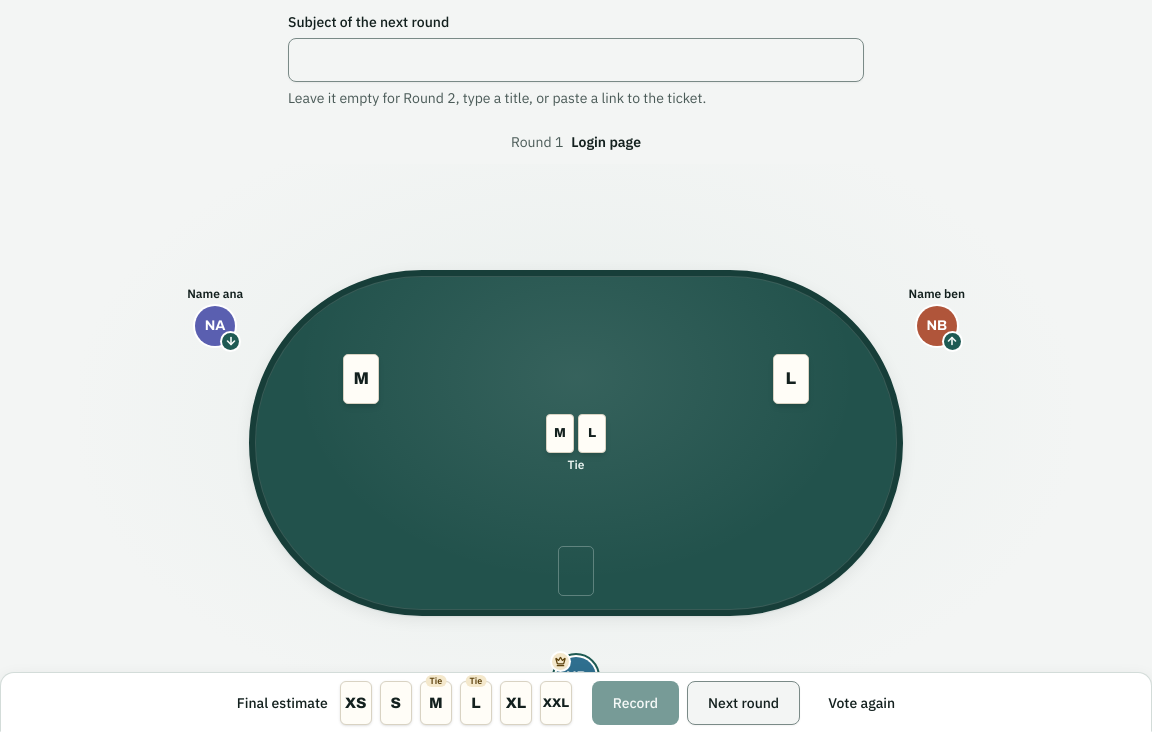
the final estimate after a change (#29) › preselects nothing when the change makes a tie, and says why under the bar
This screenshot has width=1152, height=732.
# M and L tie: the PO picks L and records it.
Click the radio button with aria-label "L, tied": (476, 703) x1=460 y1=681 x2=492 y2=725
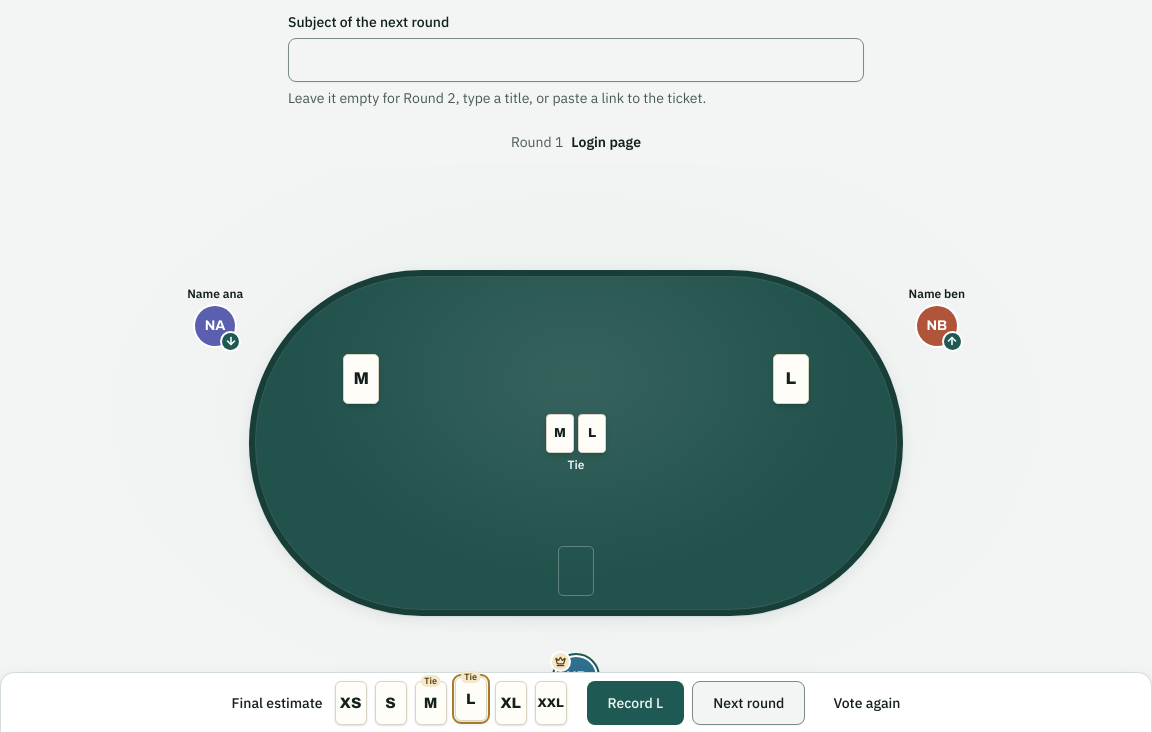
Click the button "Record L": (635, 703) x1=587 y1=681 x2=684 y2=725
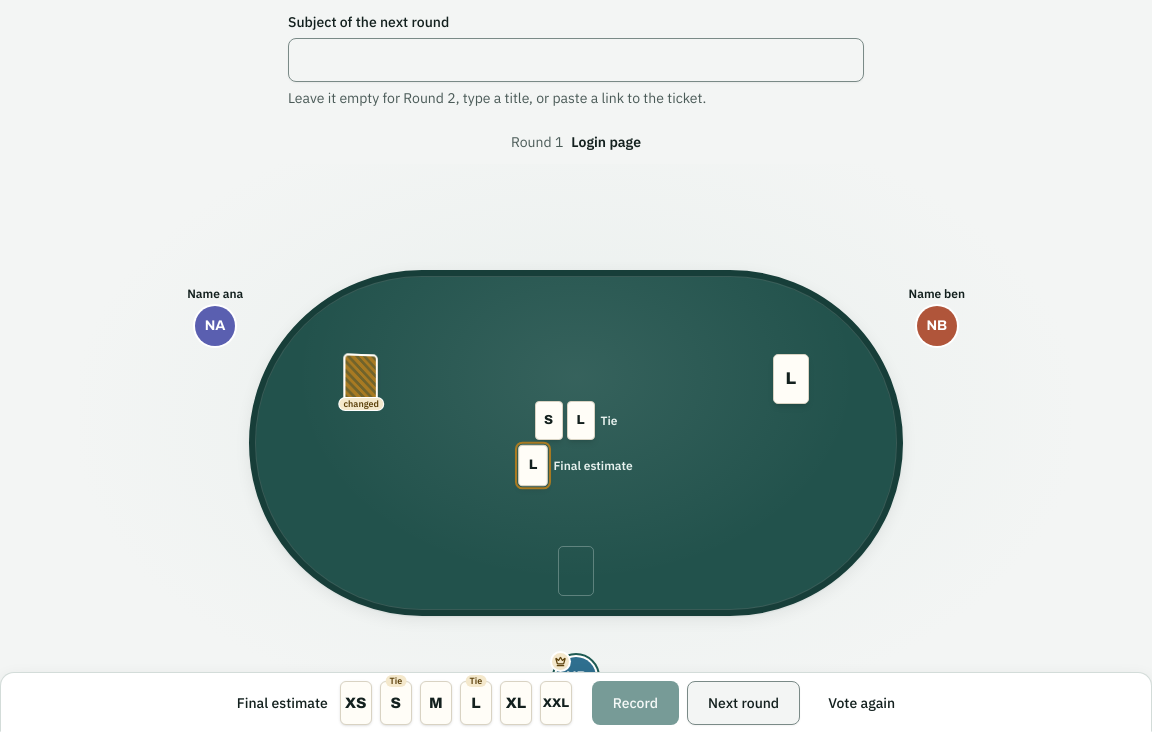
expect the button "Record" is shown: met, box x1=592 y1=681 x2=679 y2=725
